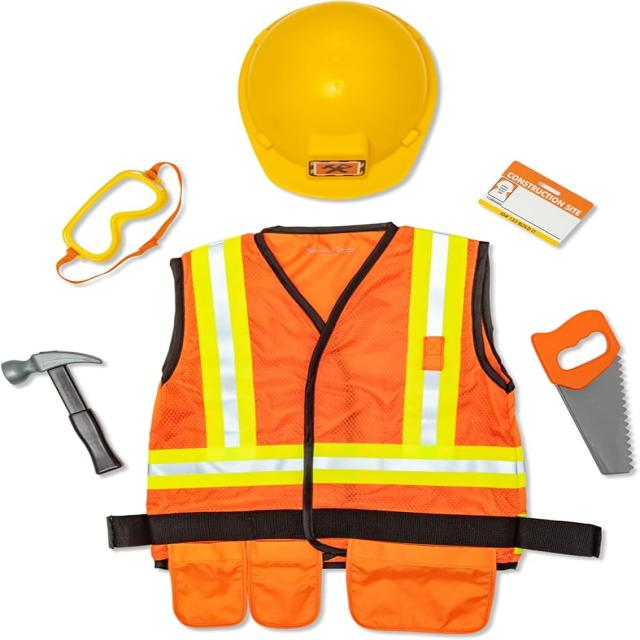Hard Hat: (224, 4, 453, 212)
Reflective Vest: (148, 211, 512, 639)
